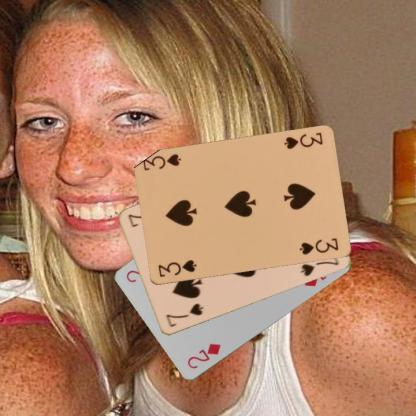2d: (184, 341, 222, 370)
3s: (154, 257, 198, 279), (280, 130, 324, 151)
7s: (163, 300, 205, 329)
